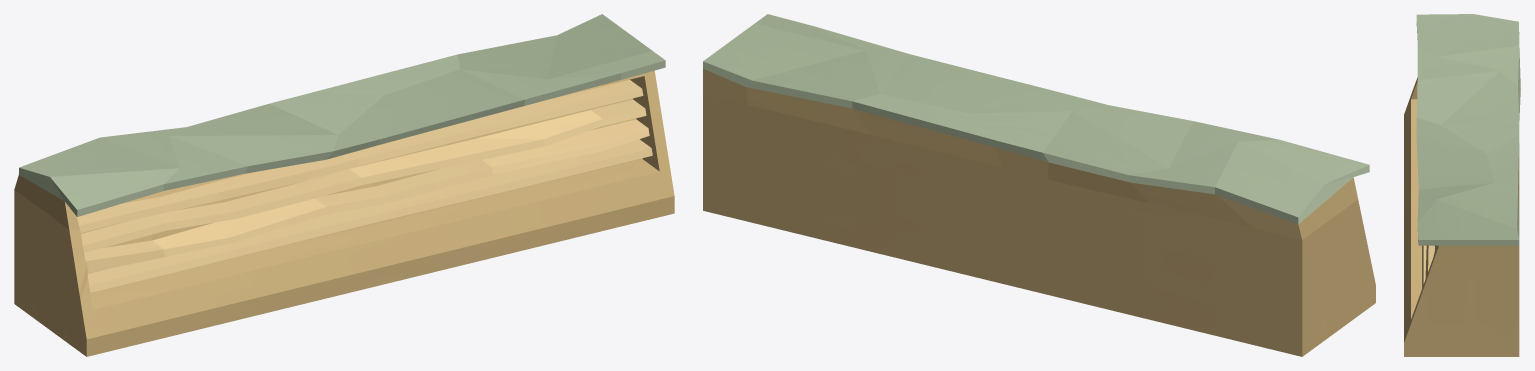
File: desk_2.glb
3 renders of one model, left to right at view 1: azimuth 30°, elevation 25°; view 2: azimuth 150°, elevation 25°; view 3: azimuth 270°, elevation 25°, orthographic. The views are drawn at different scales.
Parts seen in each view (by area): view 1: desk_2; view 2: desk_2; view 3: desk_2.
Part boxes in pixels (bbox=[...]): desk_2: bbox=[14, 14, 674, 356]; desk_2: bbox=[703, 14, 1375, 356]; desk_2: bbox=[1404, 14, 1520, 356].
Size of the model in its own units: 3.8 by 0.9023 by 0.8164.
Materials: 1 (1 with a texture image).
